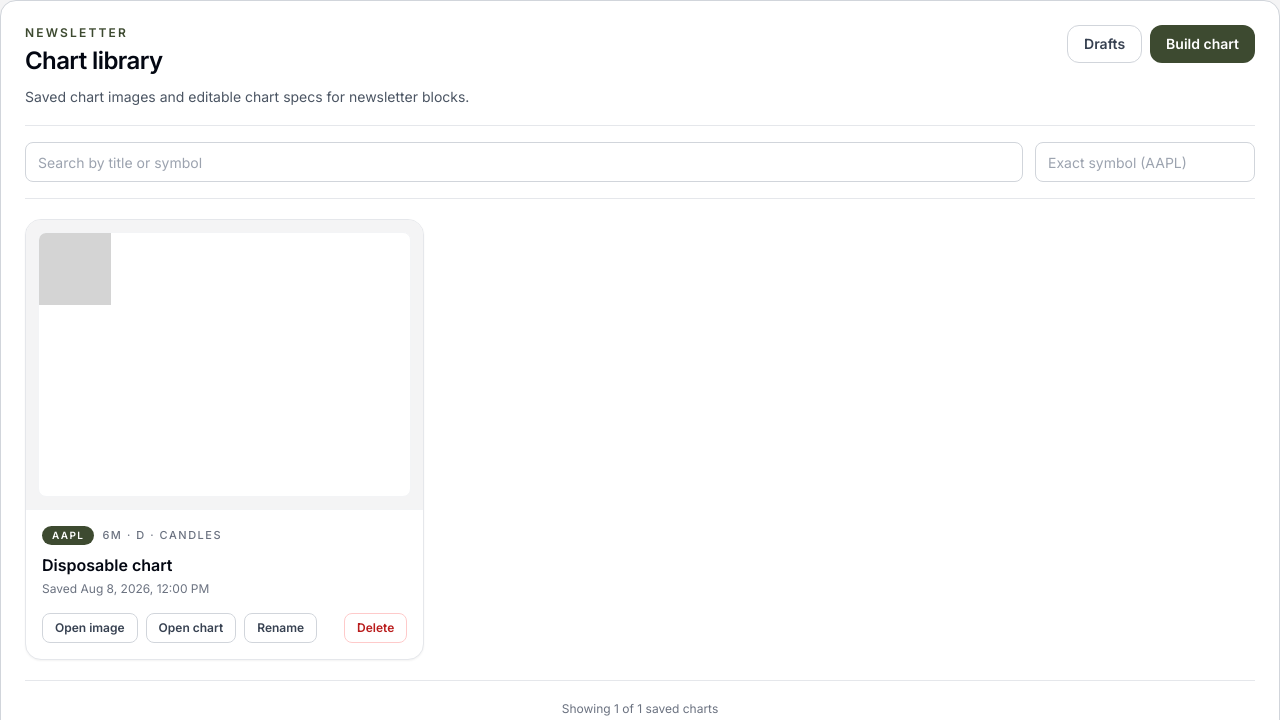
Test: newsletter chart library bounded paging › contains delete confirmation focus and restores the invoking control
Click the button "Delete": (376, 628) [344, 613, 407, 643]
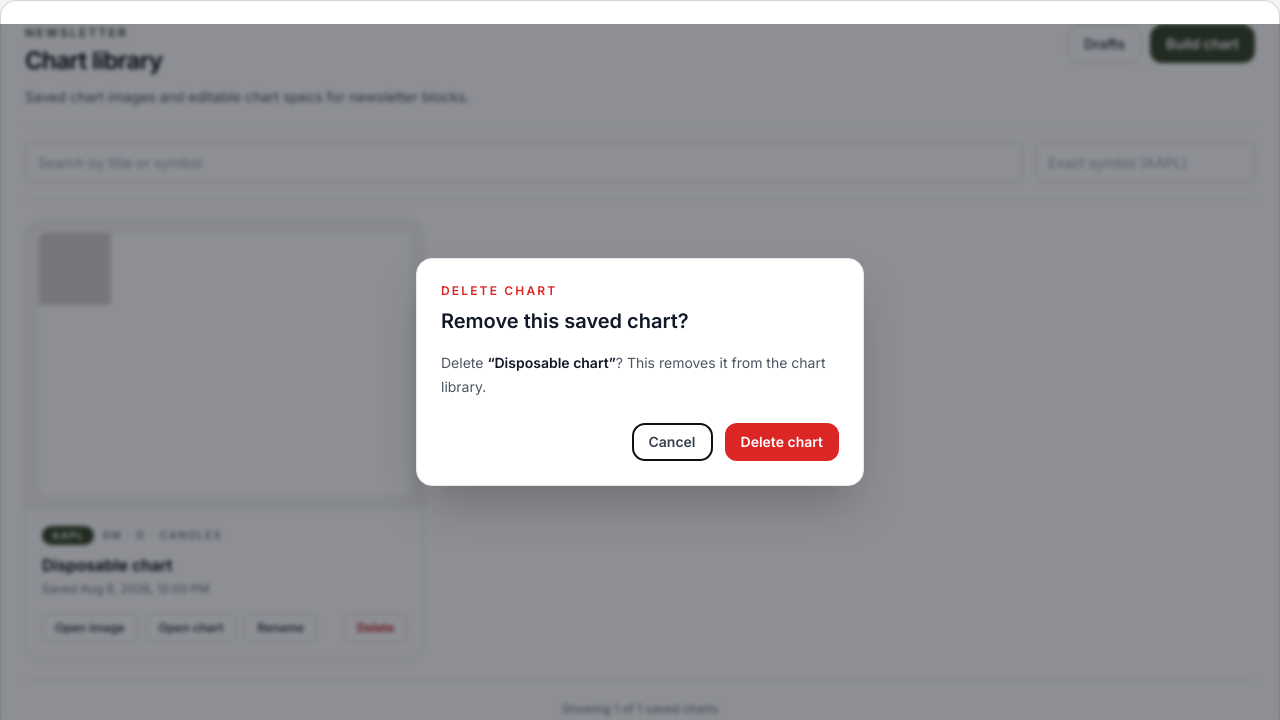
Press Tab
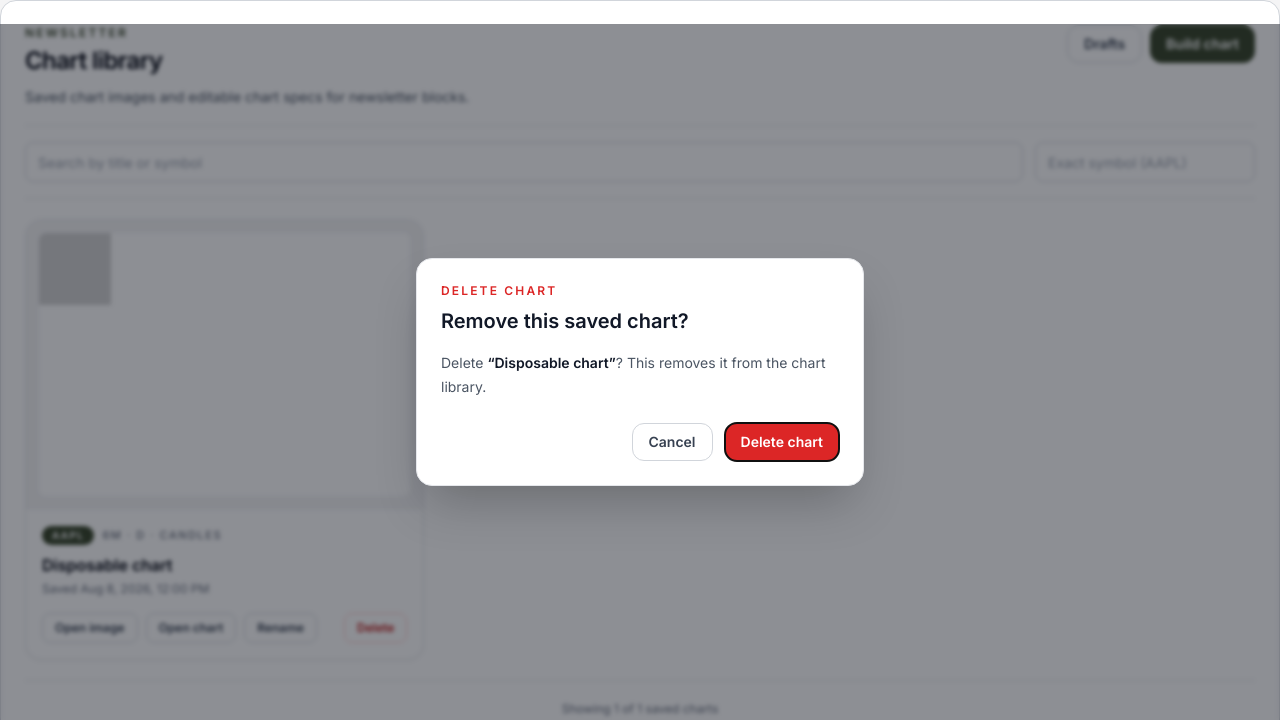
Press Tab
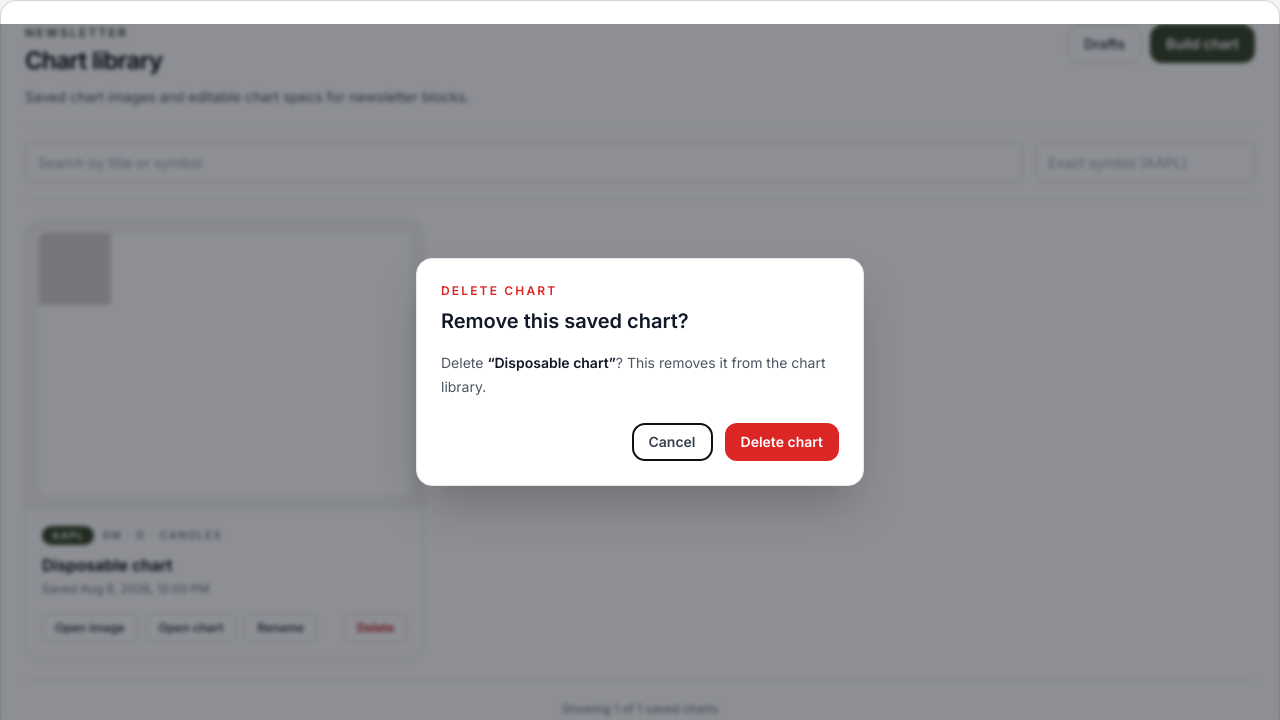
Press Escape
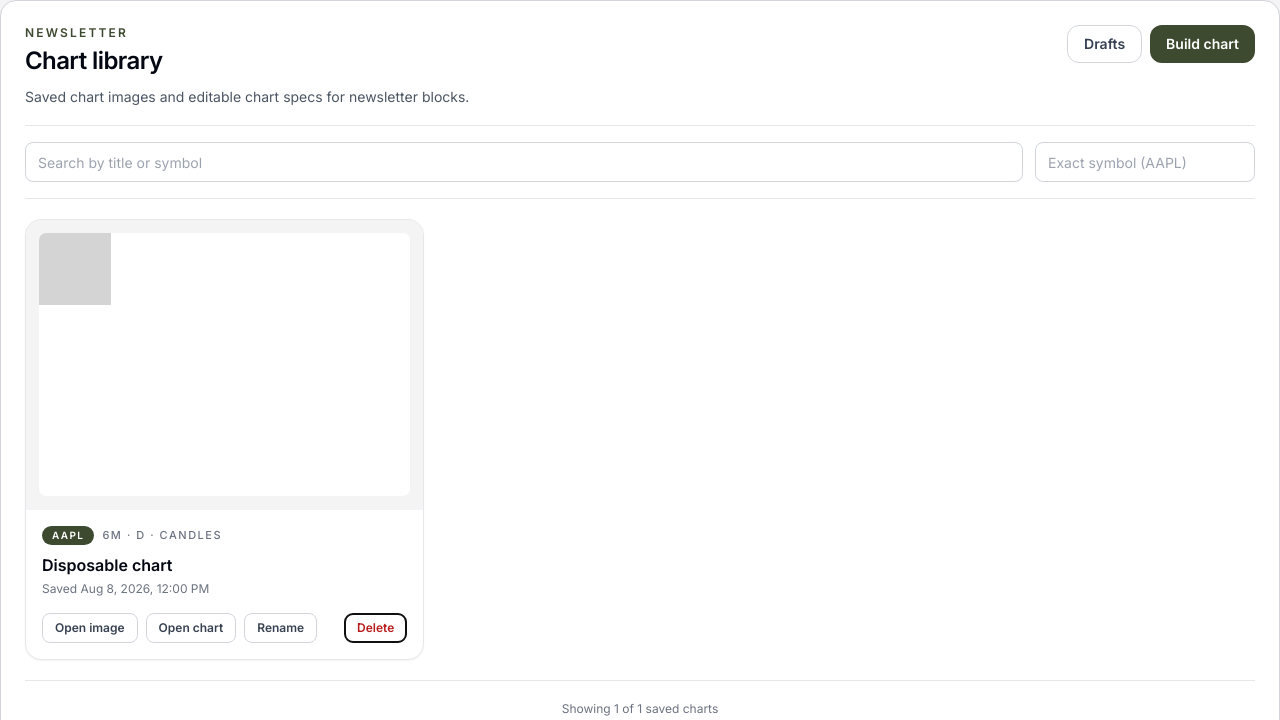
Now the heading "Remove this saved chart?" is gone
